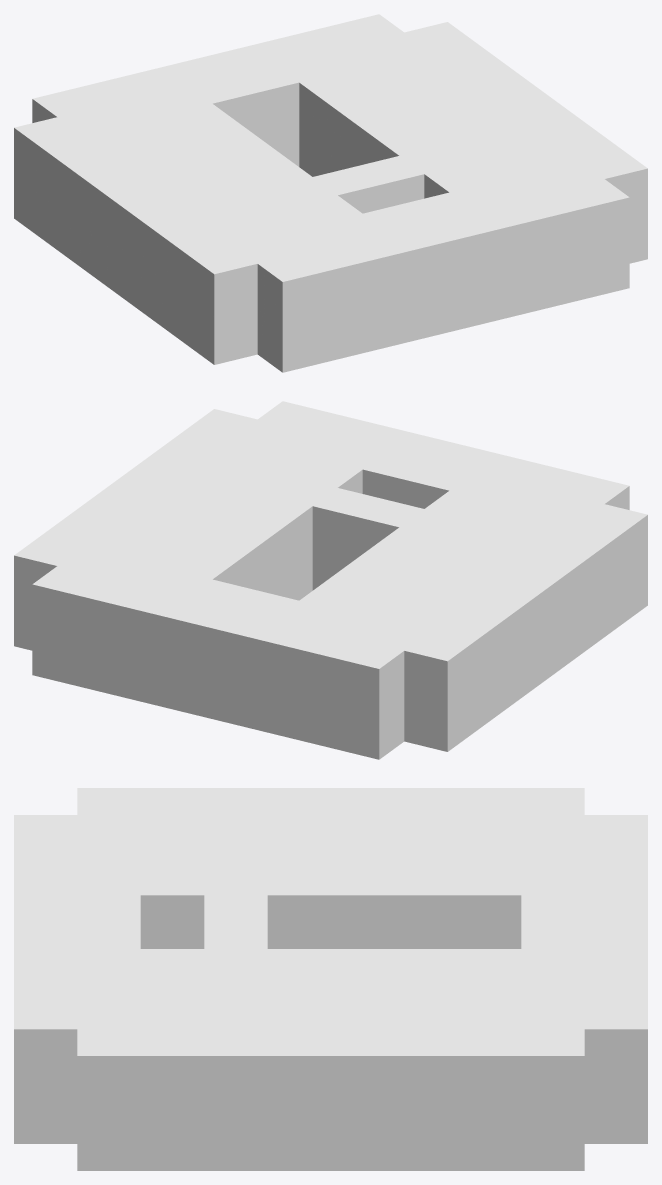
Rendered from tile_fixed.obj.
3 renders of one model, top to bottom at view 1: azimuth 30°, elevation 25°; view 2: azimuth 150°, elevation 25°; view 3: azimuth 270°, elevation 25°, orthographic. The views are drawn at different scales.
Size of the model in its own units: 1 by 0.2 by 1.
1 material, 1 textured.
